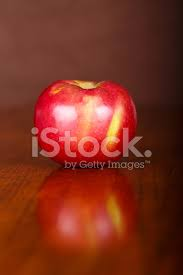apple: (36, 83, 136, 173)
